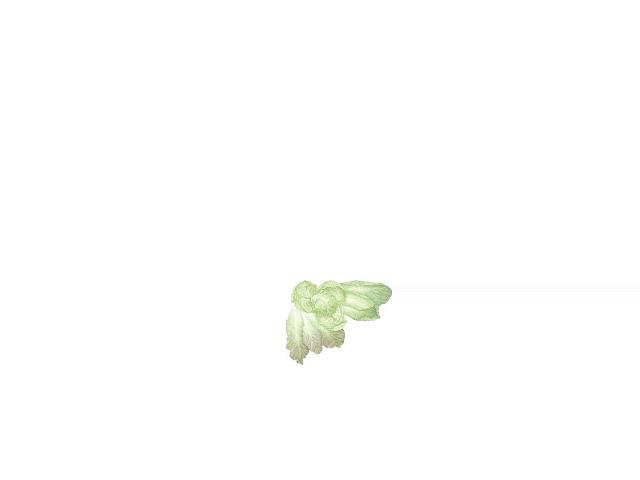lettuce: (284, 274, 392, 369)
